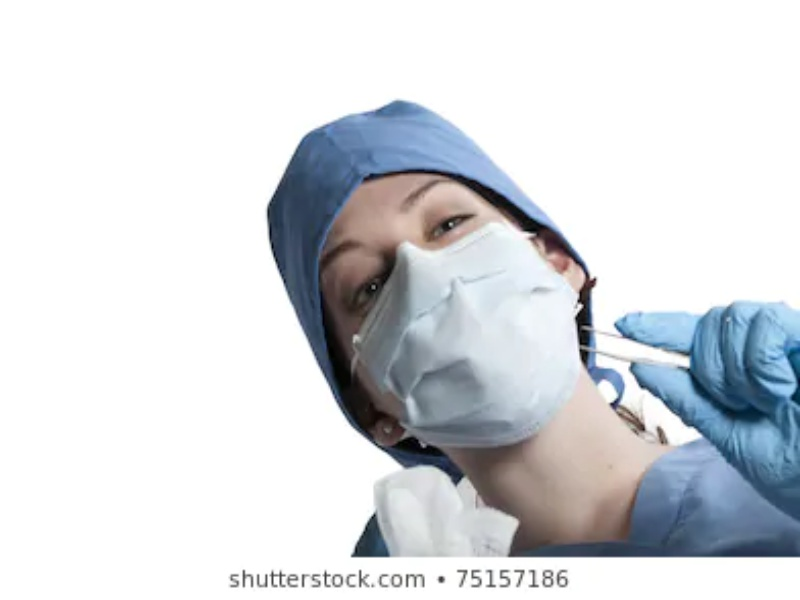ManaoArotava: (268, 124, 604, 465)
